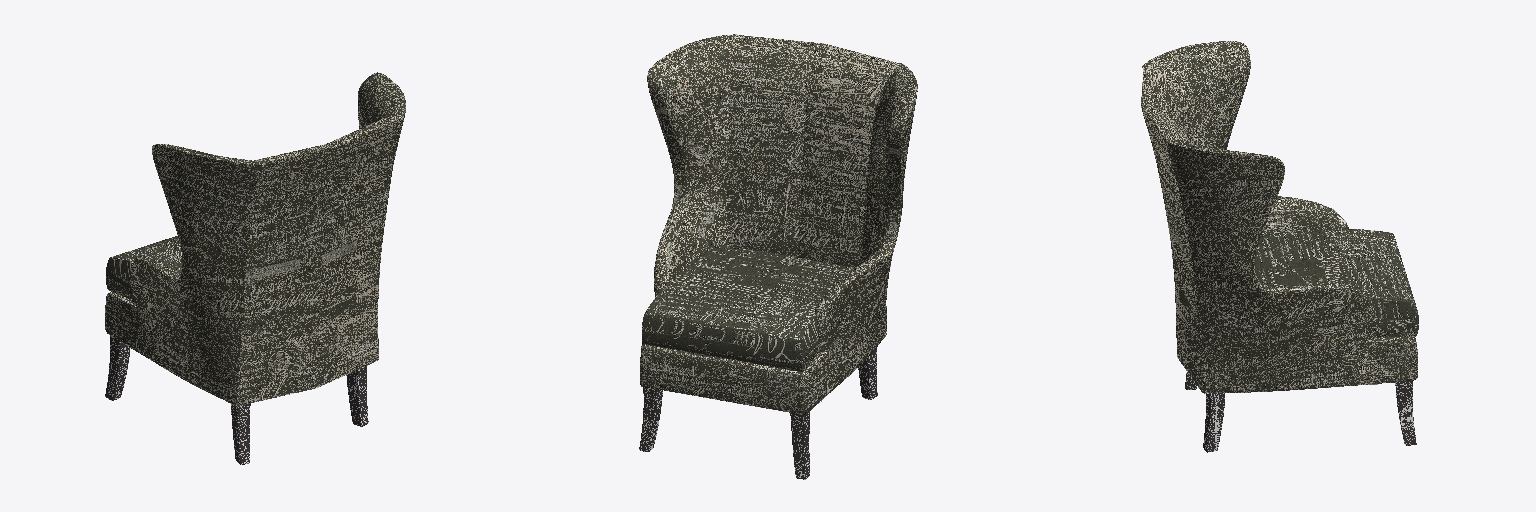
3 views of the same model, side by side, from view 1: azimuth 30°, elevation 25°; view 2: azimuth 150°, elevation 25°; view 3: azimuth 270°, elevation 25° (orthographic).
Parts seen in each view (by area): view 1: WS_Chelsea_Wing_Chair_ID4, WS_Chelsea_Wing_Chair_ID30, WS_Chelsea_Wing_Chair_ID59, WS_Chelsea_Wing_Chair_ID114, WS_Chelsea_Wing_Chair_ID75, WS_Chelsea_Wing_Chair_ID98; view 2: WS_Chelsea_Wing_Chair_ID4, WS_Chelsea_Wing_Chair_ID30, WS_Chelsea_Wing_Chair_ID59, WS_Chelsea_Wing_Chair_ID114, WS_Chelsea_Wing_Chair_ID90, WS_Chelsea_Wing_Chair_ID98; view 3: WS_Chelsea_Wing_Chair_ID4, WS_Chelsea_Wing_Chair_ID30, WS_Chelsea_Wing_Chair_ID59, WS_Chelsea_Wing_Chair_ID75, WS_Chelsea_Wing_Chair_ID90.
Part boxes in pixels (left/top/right/bottom): WS_Chelsea_Wing_Chair_ID4: left=129, top=72, right=405, bottom=404; WS_Chelsea_Wing_Chair_ID30: left=106, top=236, right=182, bottom=299; WS_Chelsea_Wing_Chair_ID59: left=105, top=292, right=377, bottom=405; WS_Chelsea_Wing_Chair_ID114: left=105, top=336, right=129, bottom=400; WS_Chelsea_Wing_Chair_ID75: left=346, top=366, right=368, bottom=426; WS_Chelsea_Wing_Chair_ID98: left=231, top=403, right=250, bottom=464; WS_Chelsea_Wing_Chair_ID4: left=647, top=34, right=917, bottom=401; WS_Chelsea_Wing_Chair_ID30: left=642, top=245, right=854, bottom=371; WS_Chelsea_Wing_Chair_ID59: left=640, top=333, right=886, bottom=414; WS_Chelsea_Wing_Chair_ID114: left=790, top=412, right=809, bottom=479; WS_Chelsea_Wing_Chair_ID90: left=639, top=387, right=662, bottom=451; WS_Chelsea_Wing_Chair_ID98: left=858, top=348, right=877, bottom=399; WS_Chelsea_Wing_Chair_ID4: left=1141, top=41, right=1377, bottom=392; WS_Chelsea_Wing_Chair_ID30: left=1255, top=229, right=1418, bottom=336; WS_Chelsea_Wing_Chair_ID59: left=1177, top=337, right=1417, bottom=393; WS_Chelsea_Wing_Chair_ID75: left=1203, top=393, right=1224, bottom=452; WS_Chelsea_Wing_Chair_ID90: left=1395, top=381, right=1416, bottom=445.
Bounding box in the file's own units: 0.5279 × 0.6671 × 0.5257.
Materials: 6 (3 with a texture image).